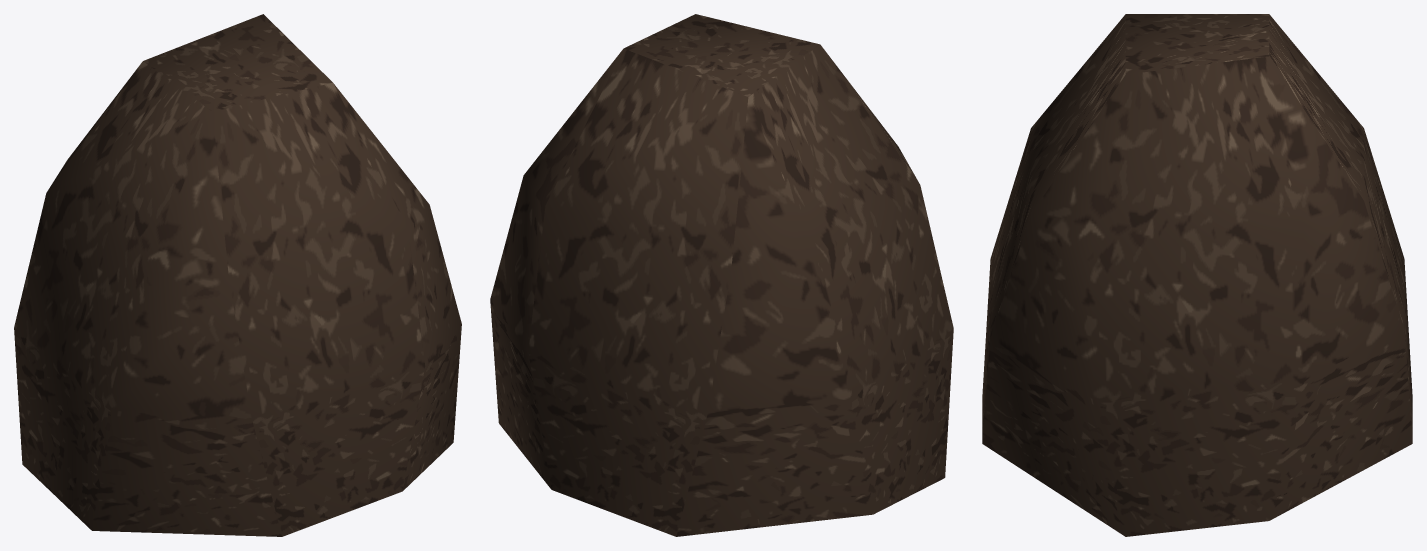
File: dug_pile3.FBX
3 views of the same model, side by side, from view 1: azimuth 30°, elevation 25°; view 2: azimuth 150°, elevation 25°; view 3: azimuth 270°, elevation 25° (orthographic). The views are drawn at different scales.
Parts seen in each view (by area): view 1: dug_pile3; view 2: dug_pile3; view 3: dug_pile3.
Boxes of the visible parts, x1,y1,x2,y2 form: dug_pile3: [14, 14, 461, 536]; dug_pile3: [490, 14, 953, 536]; dug_pile3: [982, 14, 1412, 536].
Size of the model in its own units: 100 by 108 by 100.
